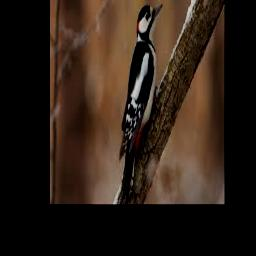Woodpecker: (119, 3, 163, 204)
